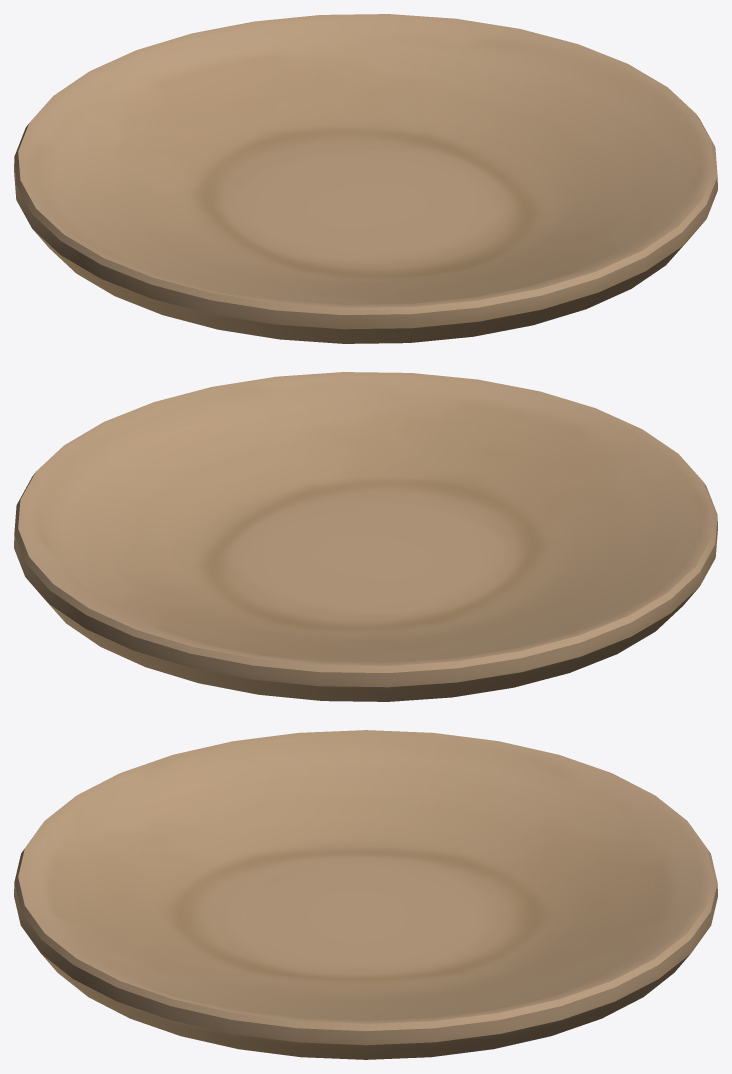
Rendered from Plato.fbx.
The picture shows the model from 3 angles, top to bottom: view 1: azimuth 30°, elevation 25°; view 2: azimuth 150°, elevation 25°; view 3: azimuth 270°, elevation 25°; orthographic projection.
Visible parts, largest first — view 1: Cylinder.003; view 2: Cylinder.003; view 3: Cylinder.003.
Part boxes in pixels (x1=…): Cylinder.003: x1=14, y1=14, x2=717, y2=343; Cylinder.003: x1=14, y1=372, x2=717, y2=701; Cylinder.003: x1=14, y1=730, x2=717, y2=1059.
Bounding box in the file's own units: 211 × 33.29 × 211.
